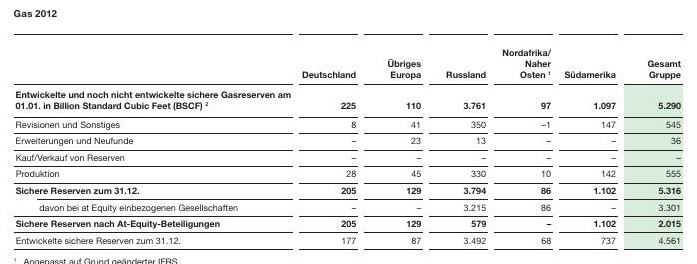table: (0, 0, 697, 264)
